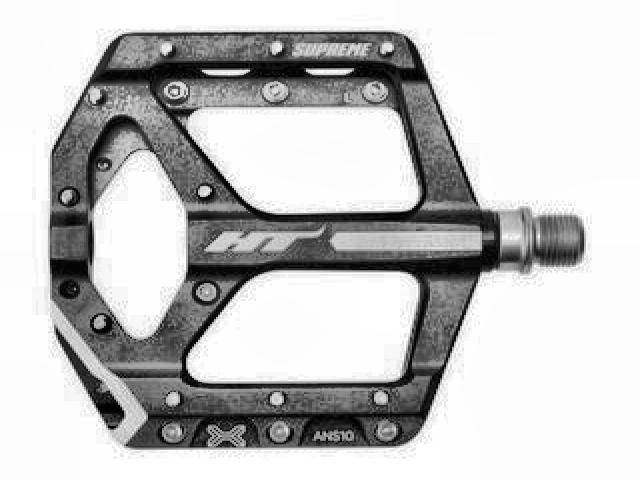pedal: (45, 24, 590, 454)
